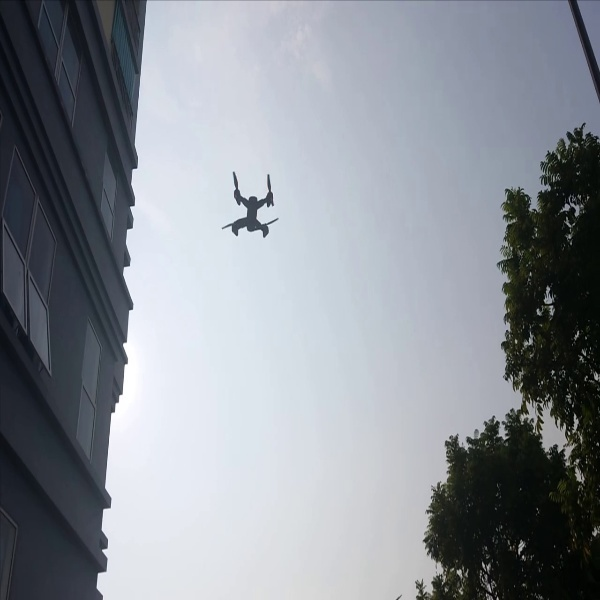drone: (214, 161, 286, 244)
